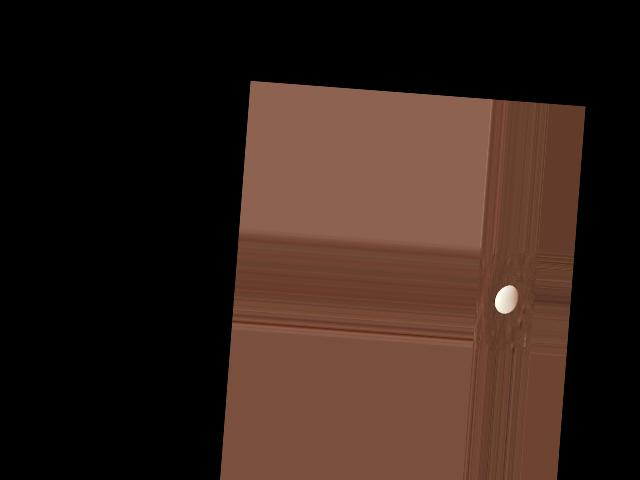egg: (494, 283, 519, 314)
